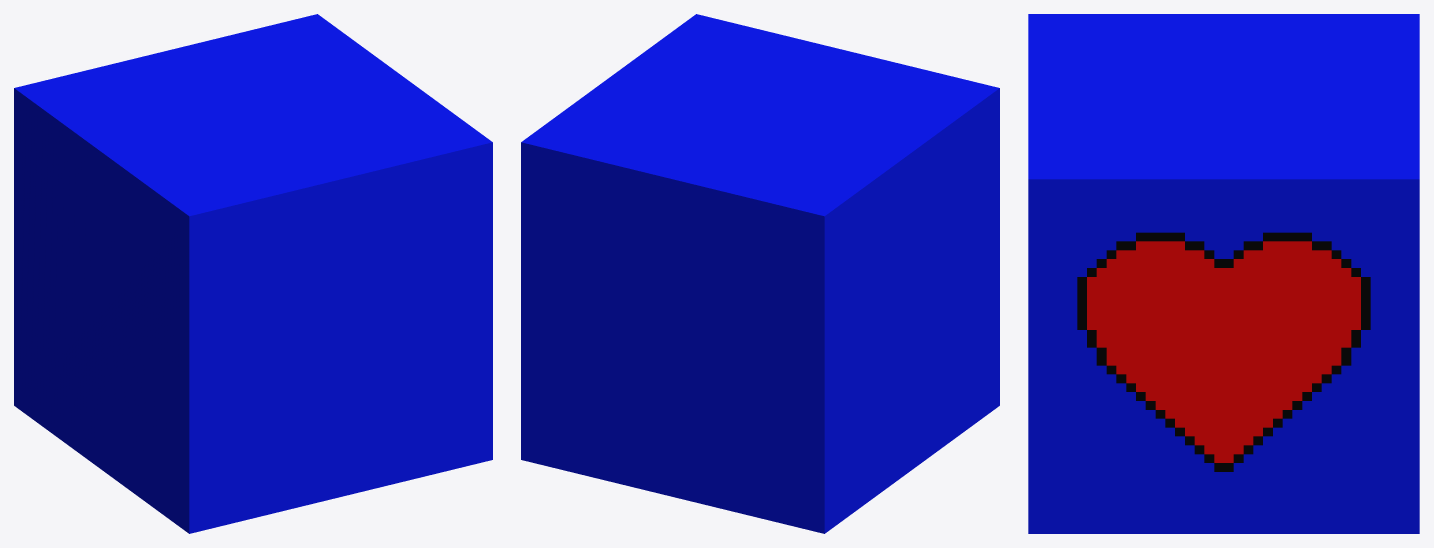
File: PlatformPiece.fbx
The picture shows the model from 3 angles, left to right: view 1: azimuth 30°, elevation 25°; view 2: azimuth 150°, elevation 25°; view 3: azimuth 270°, elevation 25°; orthographic projection. The views are drawn at different scales.
Parts seen in each view (by area): view 1: PlatformPiece.001; view 2: PlatformPiece.001; view 3: PlatformPiece.001.
Boxes of the visible parts, x1=… form: PlatformPiece.001: x1=14, y1=14, x2=492, y2=533; PlatformPiece.001: x1=521, y1=14, x2=999, y2=533; PlatformPiece.001: x1=1028, y1=14, x2=1419, y2=533.
Bounding box in the file's own units: 400 × 400 × 400.
